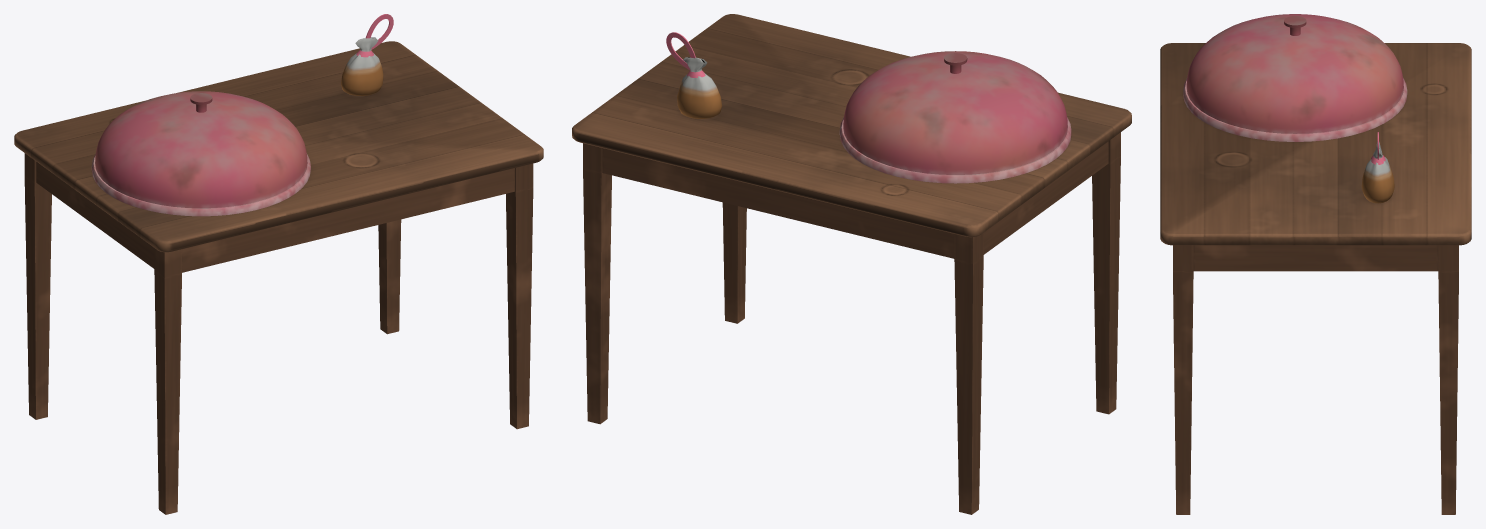
Rendered from dining_table.glb.
The picture shows the model from 3 angles, left to right: view 1: azimuth 30°, elevation 25°; view 2: azimuth 150°, elevation 25°; view 3: azimuth 270°, elevation 25°; orthographic projection. The views are drawn at different scales.
Parts seen in each view (by area): view 1: DiningTable; view 2: DiningTable; view 3: DiningTable.
Boxes of the visible parts, <box> form: DiningTable: <box>14,14,543,514</box>; DiningTable: <box>572,14,1131,514</box>; DiningTable: <box>1160,14,1471,514</box>.
Size of the model in its own units: 1.1 by 0.957 by 0.75.
1 material, 1 textured.
